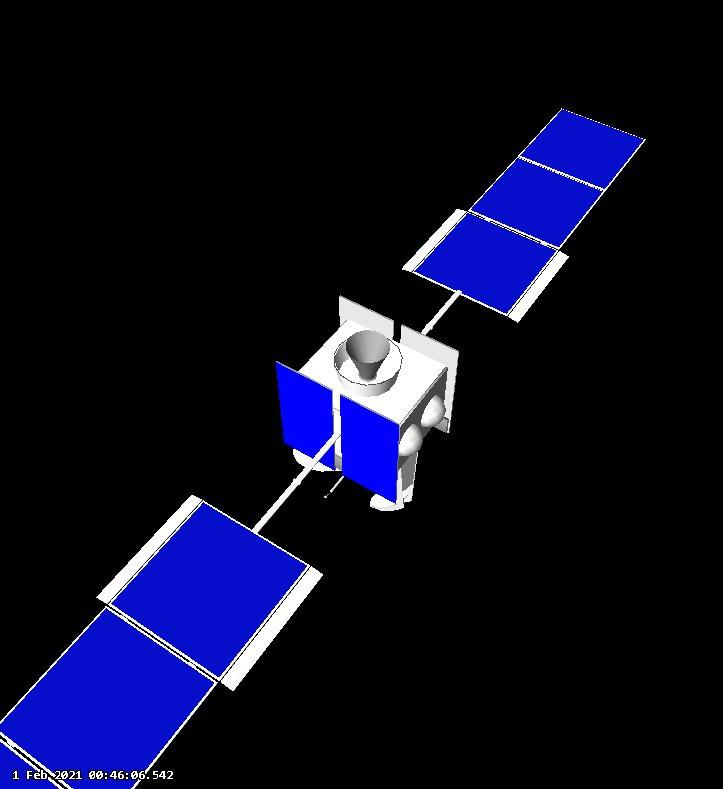antenna: (289, 448, 339, 473)
body: (287, 318, 449, 464)
solar: (0, 489, 323, 789), (397, 106, 646, 324), (273, 359, 400, 503), (335, 297, 460, 438)
thruster: (343, 325, 391, 383)
